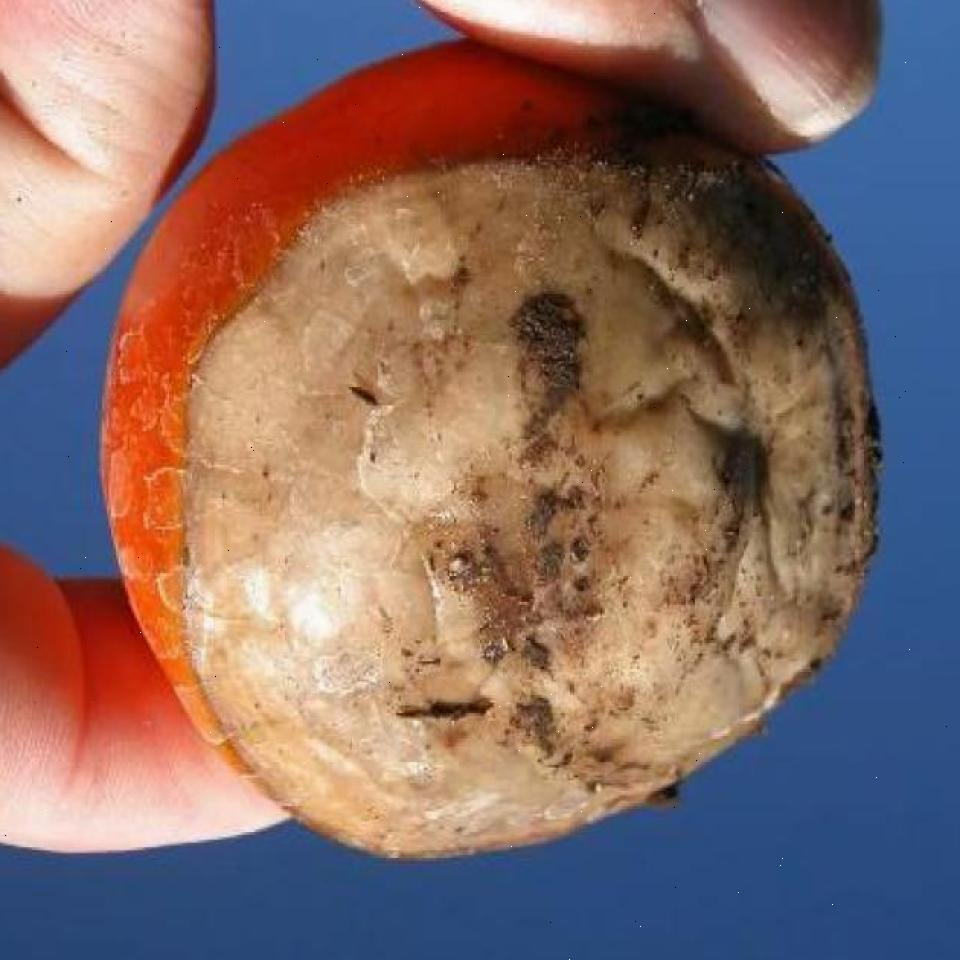Blossom_end_rot: (180, 138, 874, 860)
